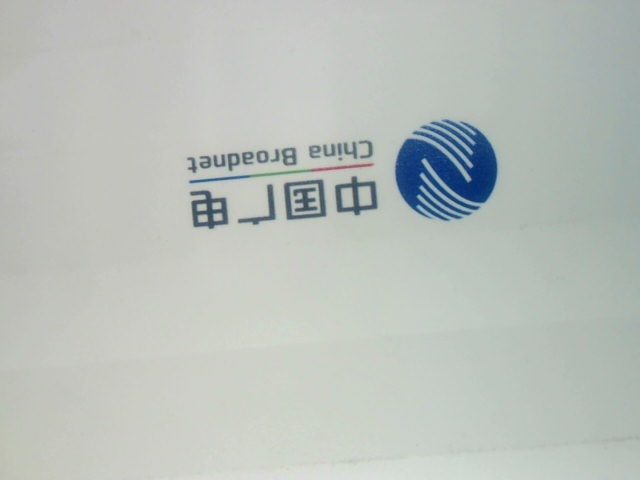AW_ChinaBroadNet: (171, 107, 506, 240)
